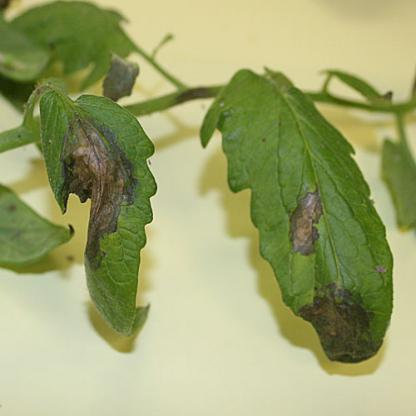tomato leaf late blight: (203, 39, 394, 382), (38, 77, 156, 360)
